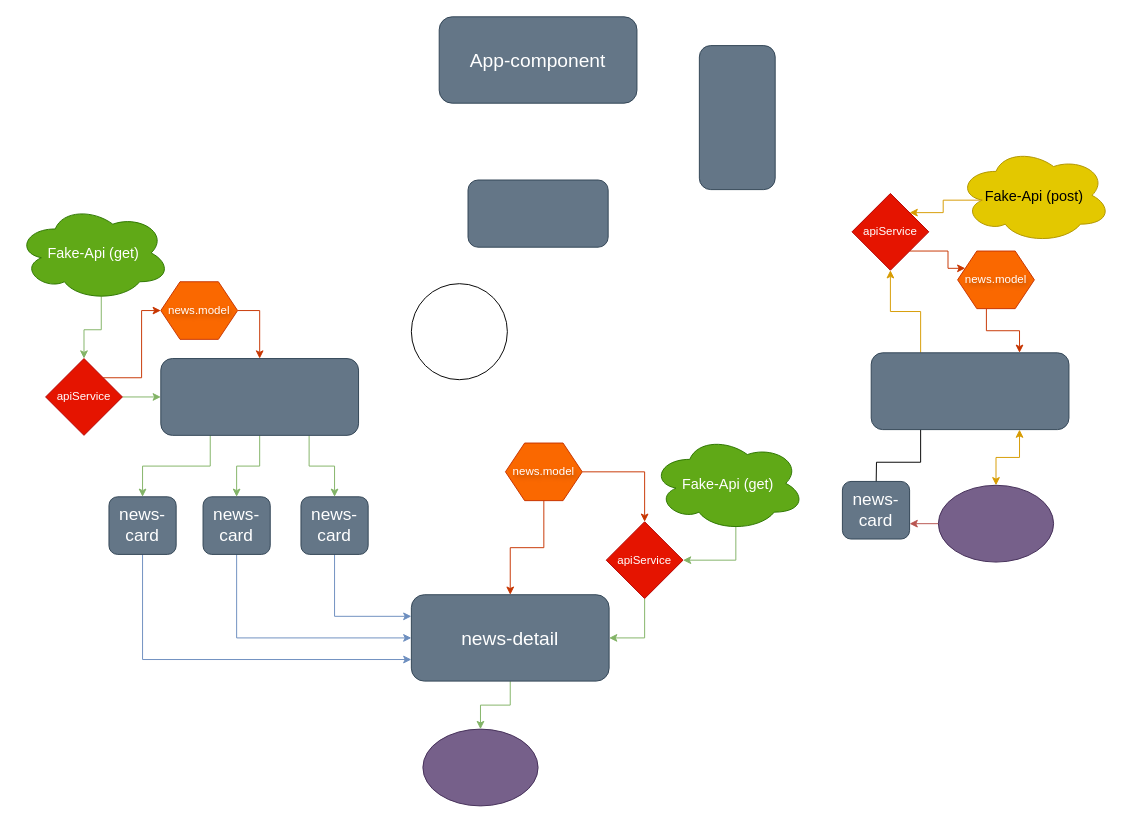
Image size: 1128x823. Some labels were removed from this diagram. The shapes that lost their labels are listed below. From the top down, each one's centre as x and y in pixels, then its label:
At (736,117): "side-menu".
At (537,213): "page-header".
At (458,331): "router-outler".
At (259,396): "news-page".
At (969,391): "more-news".
At (995,523): "more-news (content)".
At (480,767): "news-detail (content)".
